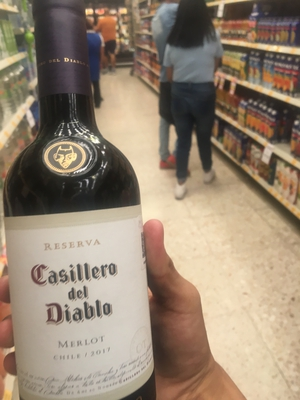casillero del diablo merlot: (6, 13, 168, 399)
